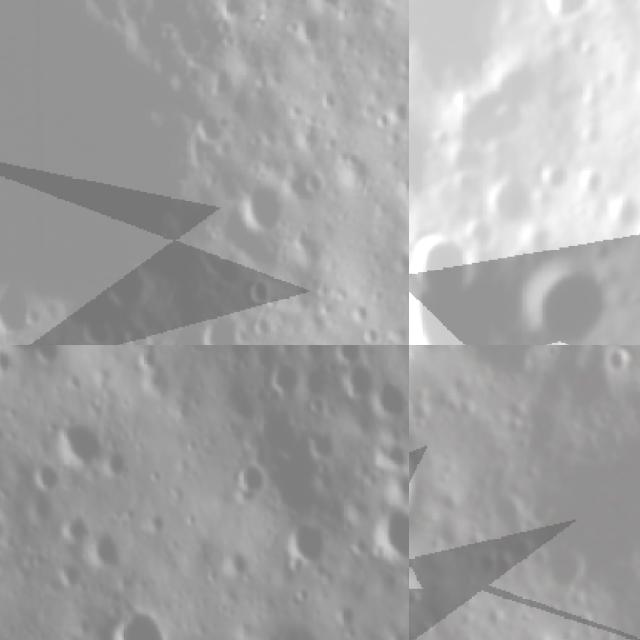crater: (0, 0, 212, 306), (544, 431, 640, 611), (409, 0, 520, 88), (520, 256, 620, 345), (218, 163, 296, 251), (409, 233, 489, 315), (452, 345, 561, 385), (532, 541, 592, 600), (485, 176, 538, 237), (368, 500, 409, 560), (184, 305, 245, 345), (484, 486, 532, 536), (54, 413, 100, 461), (536, 0, 599, 33), (285, 520, 323, 574), (113, 603, 164, 640), (228, 448, 264, 498), (238, 272, 278, 316), (602, 345, 640, 385), (372, 377, 407, 420), (204, 0, 251, 32), (87, 530, 126, 568), (262, 359, 296, 402), (535, 163, 573, 200), (55, 512, 89, 543), (26, 462, 60, 487), (47, 330, 99, 345), (106, 444, 127, 480), (345, 366, 368, 398), (331, 345, 363, 363)
